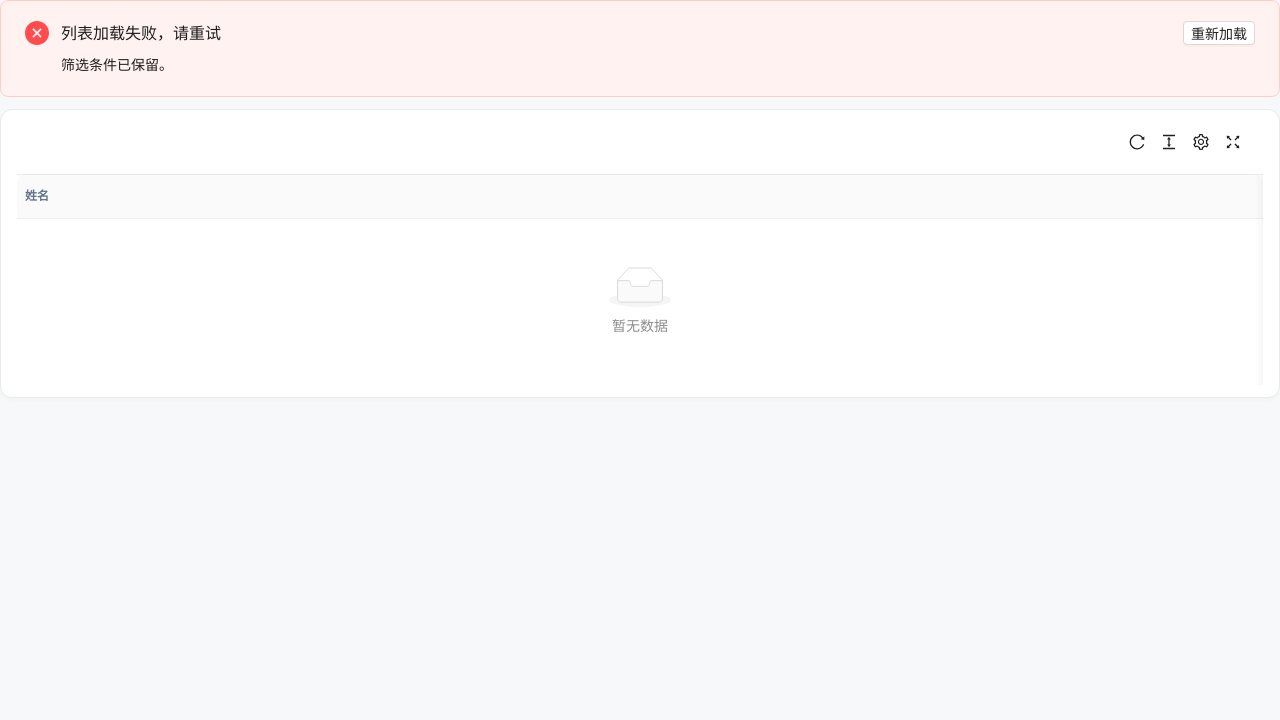
Scenario: SmartDataTable › distinguishes request failures from empty results and allows retry
Expected: the text "列表加载失败，请重试" is shown, [61, 23, 221, 43]
What coordinates should you click on to do the following:
click the button "重新加载"
I would click on:
 (1219, 33)
Its box is [1183, 21, 1255, 45].
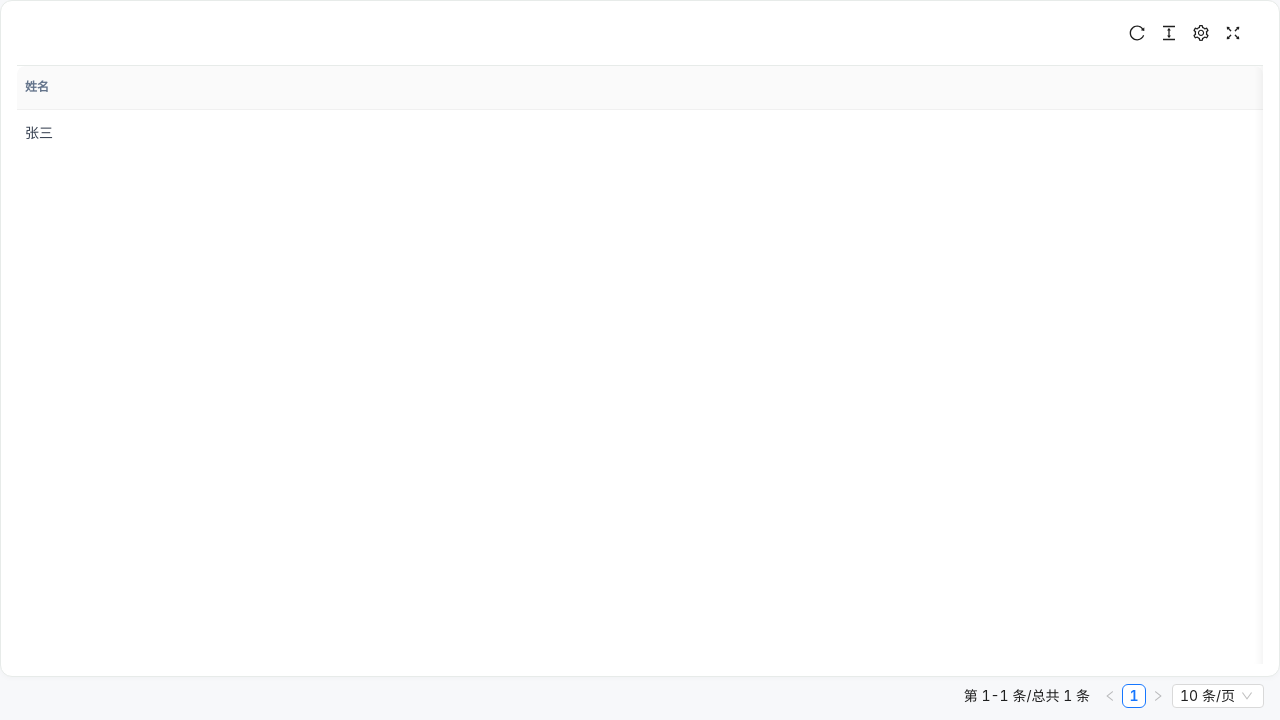
Expected: the text "张三" is shown, [17, 110, 1248, 156]
Expected: the text "列表加载失败，请重试" is gone
